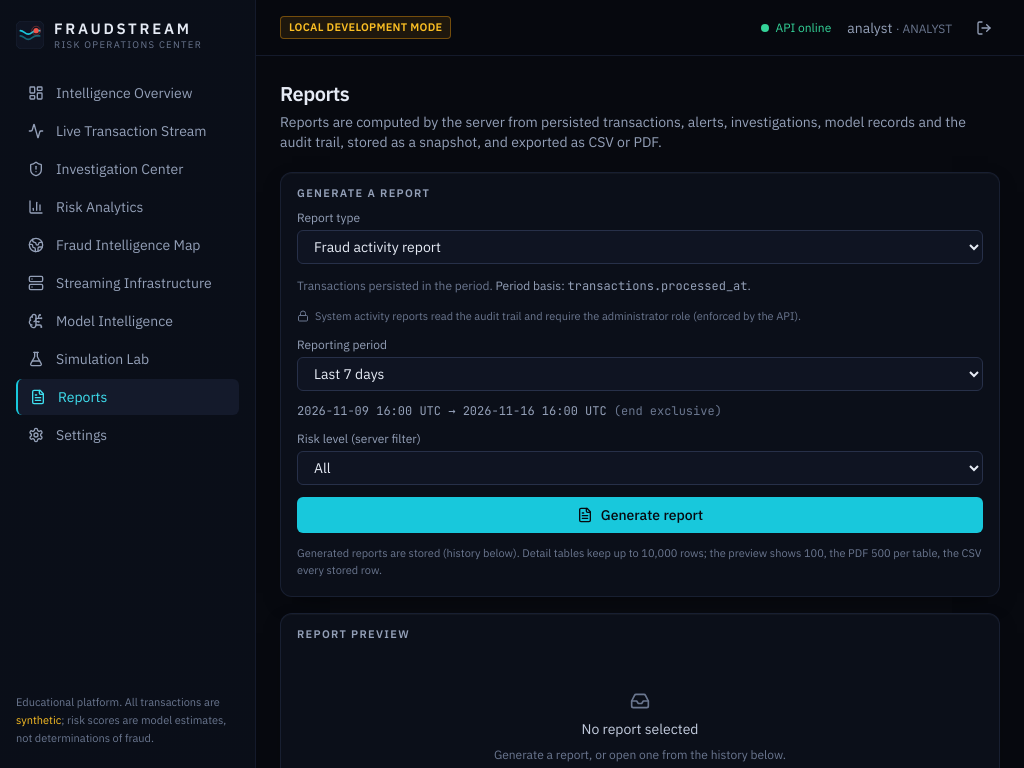
Test case: Reports page › shows the server's reason when generation is rejected
Click the button with test id "report-generate".
click(640, 514)  # box [297,496,983,532]
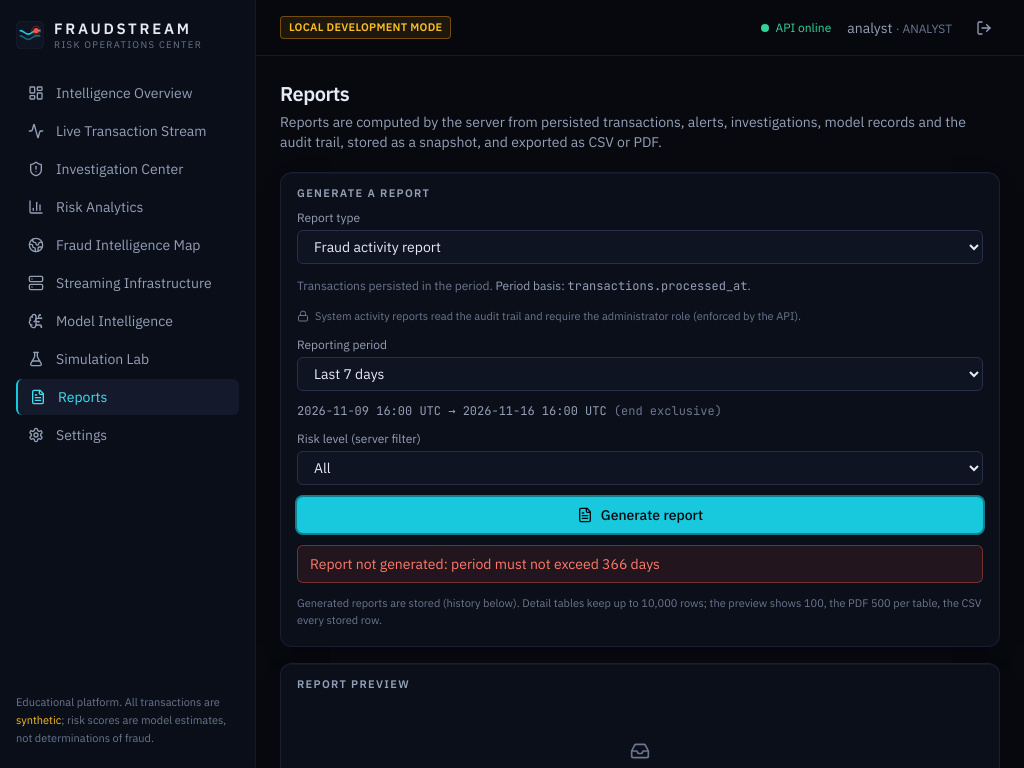
Now the message with test id "report-error" shows "period must not exceed 366 days", box [451,554,660,572]
